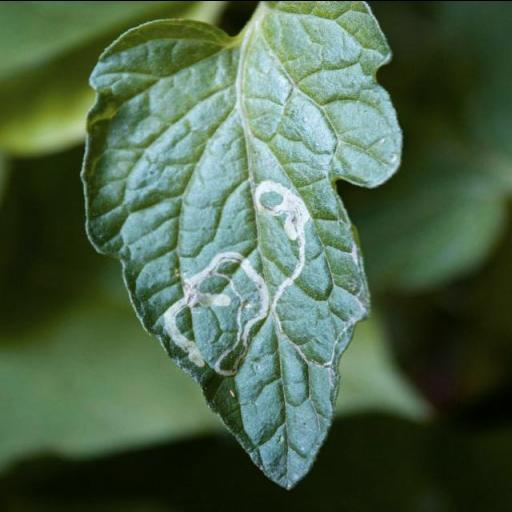disease_tomato: (80, 0, 405, 489)
